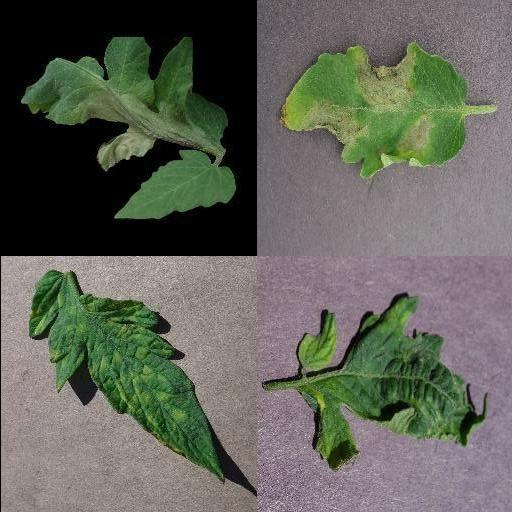Healthy: (113, 148, 235, 220)
Late Blight: (20, 36, 224, 170), (276, 40, 468, 178)
Leaf Mold: (28, 271, 224, 484)
Mosaic Virus: (295, 296, 491, 472)
